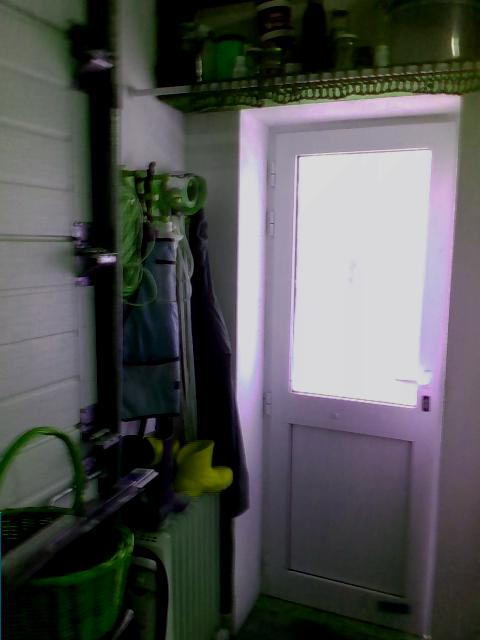closed_door: (235, 89, 460, 638)
